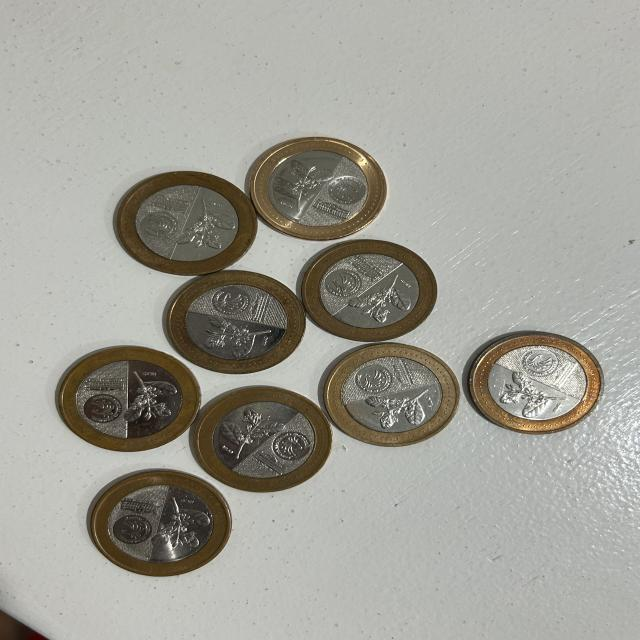20_New_Back: (153, 493, 210, 553), (353, 275, 415, 327), (221, 408, 286, 457), (177, 198, 233, 254), (119, 373, 178, 426), (204, 316, 277, 358), (495, 369, 566, 412), (276, 158, 331, 212), (364, 389, 434, 427)
